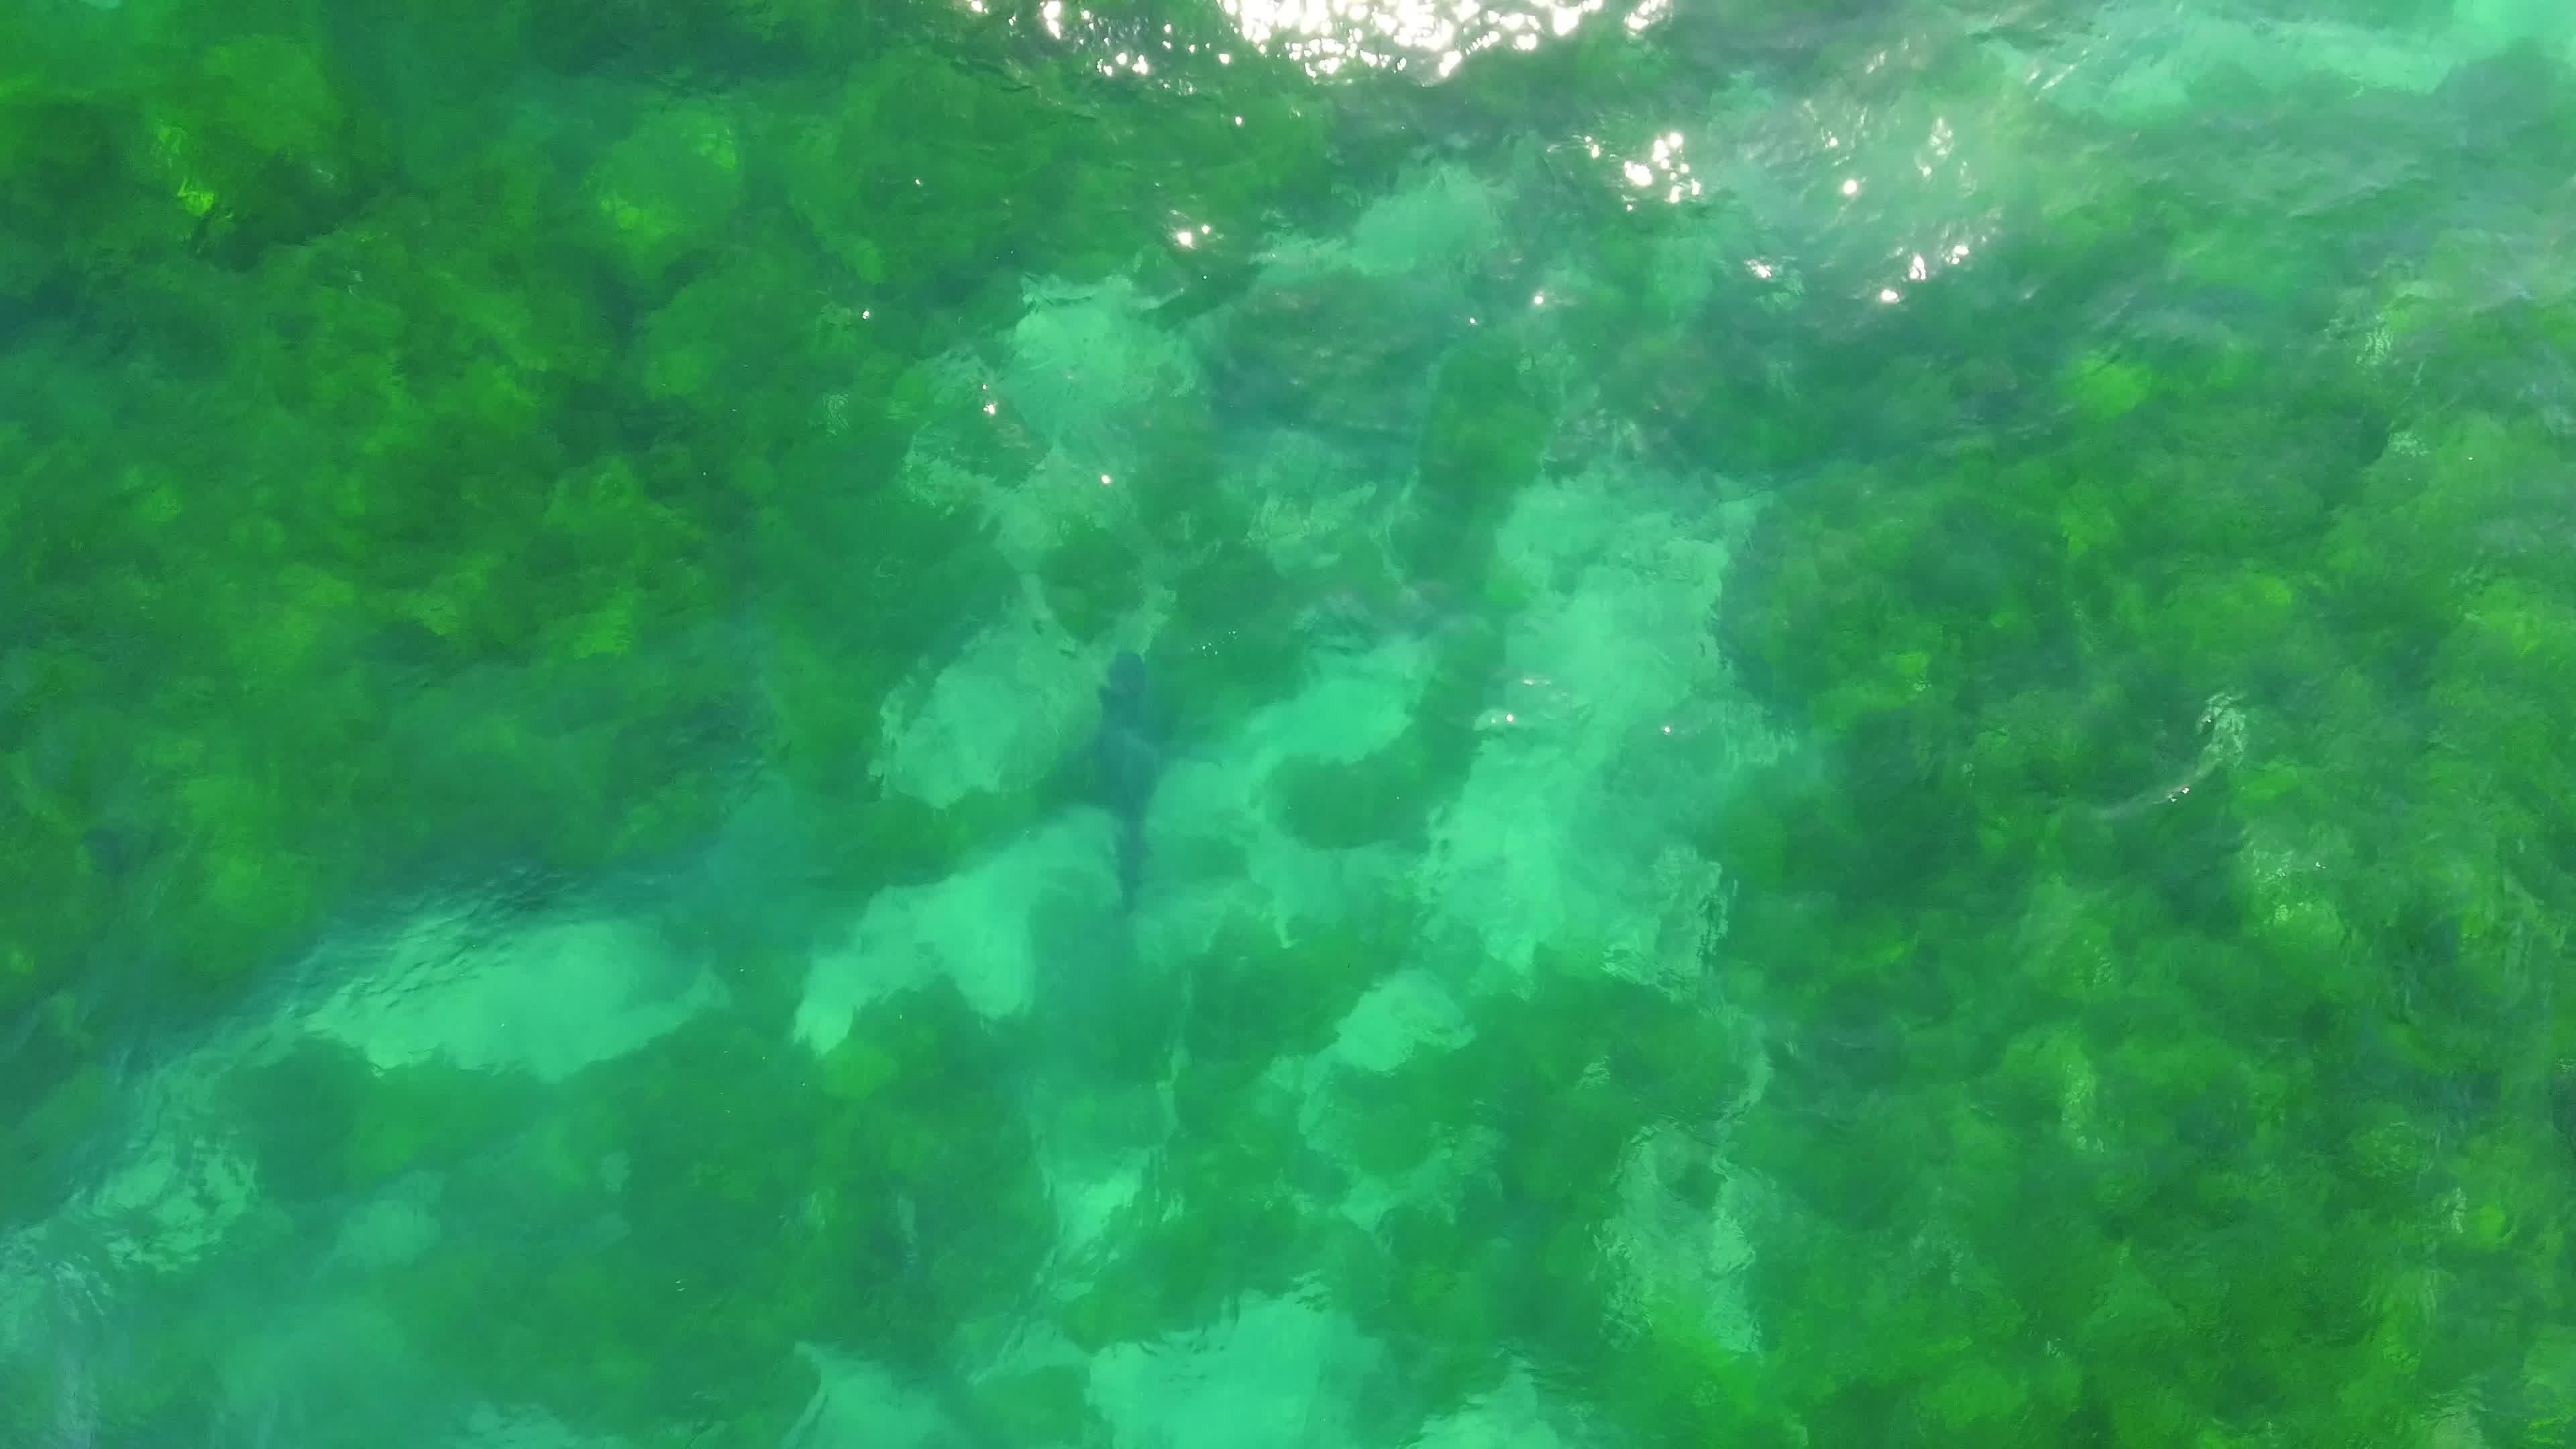shark: (1054, 639, 1200, 918)
